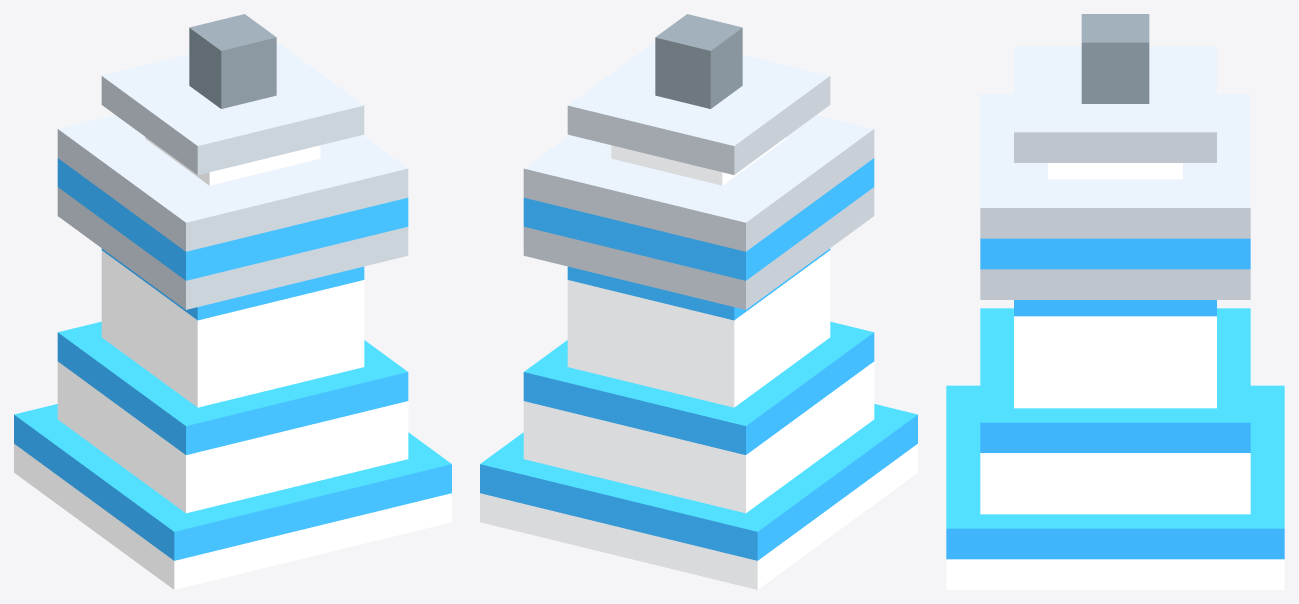
The model's file is voxel-skytree.glb.
3 views of the same model, side by side, from view 1: azimuth 30°, elevation 25°; view 2: azimuth 150°, elevation 25°; view 3: azimuth 270°, elevation 25° (orthographic). The views are drawn at different scales.
Parts seen in each view (by area): view 1: skytree; view 2: skytree; view 3: skytree.
Boxes of the visible parts, left/top/right/bottom form: skytree: left=14, top=14, right=451, bottom=589; skytree: left=480, top=14, right=917, bottom=589; skytree: left=946, top=14, right=1284, bottom=589.
Size of the model in its own units: 1.5 by 2.4 by 1.5.
